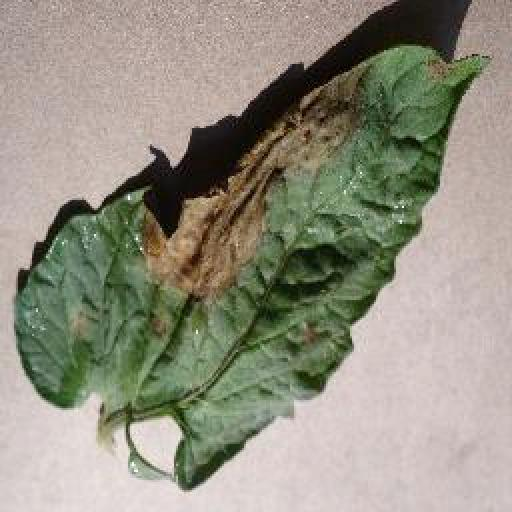disease_tomato: (15, 44, 493, 488)
